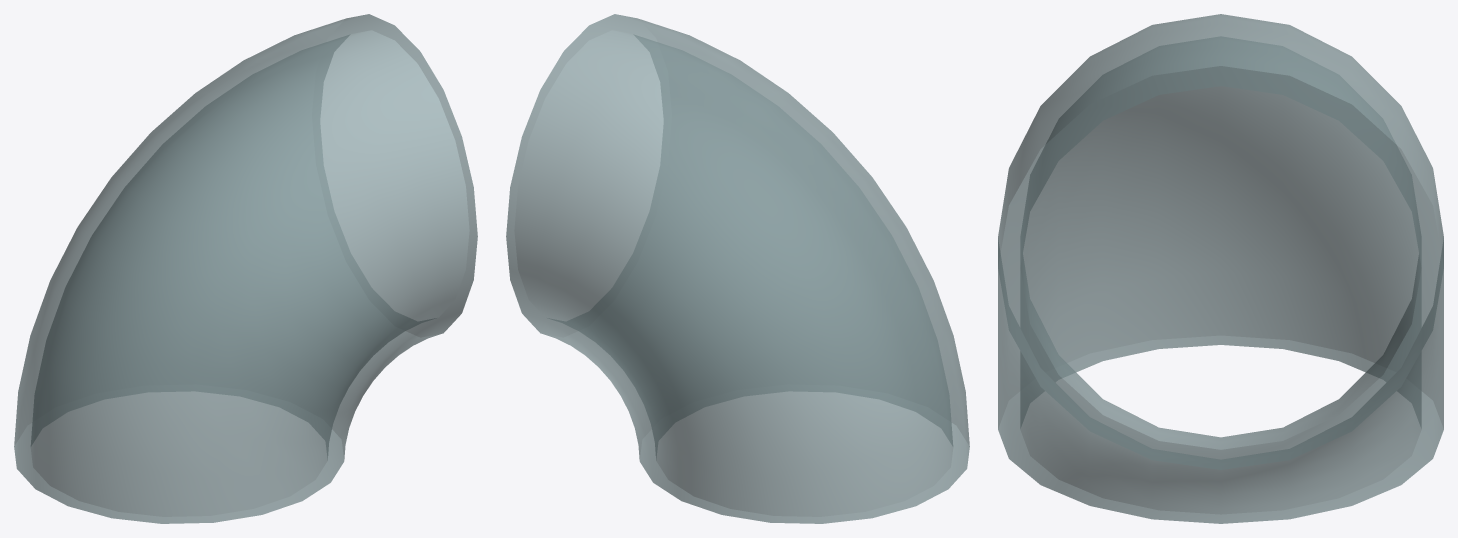
File: Tube_Elbow1.fbx
The picture shows the model from 3 angles, left to right: view 1: azimuth 30°, elevation 25°; view 2: azimuth 150°, elevation 25°; view 3: azimuth 270°, elevation 25°; orthographic projection. The views are drawn at different scales.
Parts seen in each view (by area): view 1: polySurface501; view 2: polySurface501; view 3: polySurface501.
Boxes of the visible parts, <box> form: polySurface501: <box>14,14,477,523</box>; polySurface501: <box>506,14,969,523</box>; polySurface501: <box>998,14,1443,523</box>.
Bounding box in the file's own units: 2.5 × 2.5 × 2.
